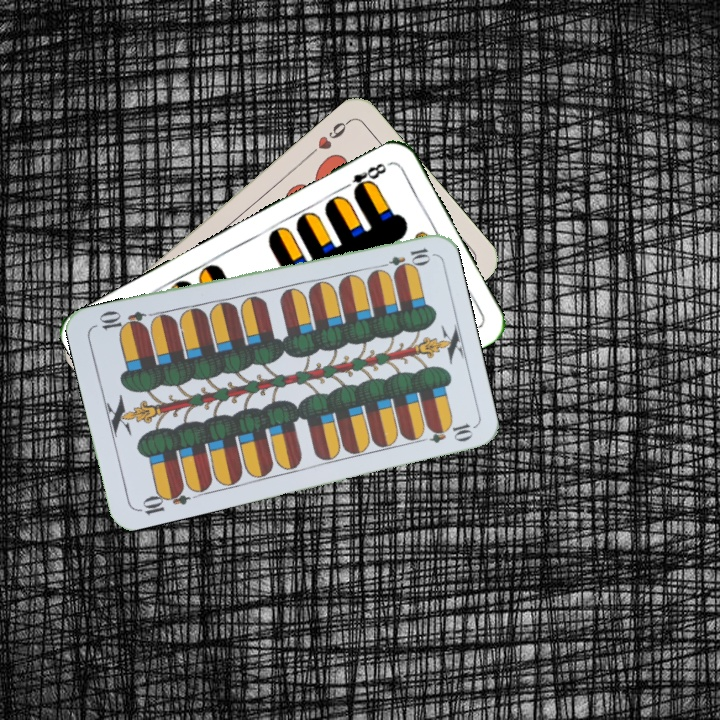E10: (133, 482, 192, 518), (374, 244, 433, 273)
E8: (337, 159, 389, 197)
H9: (304, 116, 353, 159)
